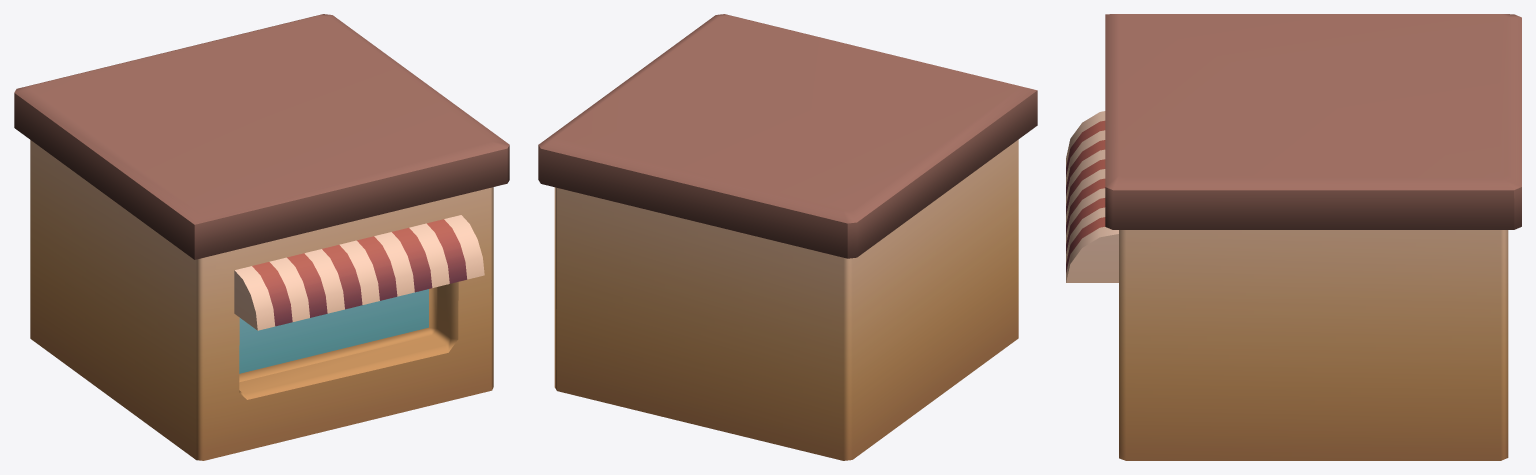
Rendered from SM_Kiosk.fbx.
3 renders of one model, left to right at view 1: azimuth 30°, elevation 25°; view 2: azimuth 150°, elevation 25°; view 3: azimuth 270°, elevation 25°, orthographic. The views are drawn at different scales.
Parts seen in each view (by area): view 1: SM_Kiosk.002; view 2: SM_Kiosk.002; view 3: SM_Kiosk.002.
Part boxes in pixels (x1,y1,x2,y2): SM_Kiosk.002: (14,14,509,460); SM_Kiosk.002: (538,14,1037,460); SM_Kiosk.002: (1066,14,1521,460).
Size of the model in its own units: 535 by 400 by 585.
